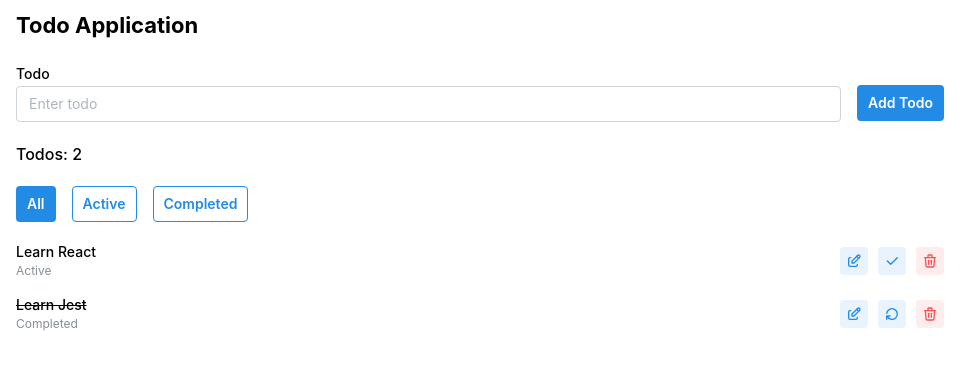
Test: Todo Application › validates todo title
Type "ab" into the field labelled "Todo" at (429, 104), box [16,86,841,122]
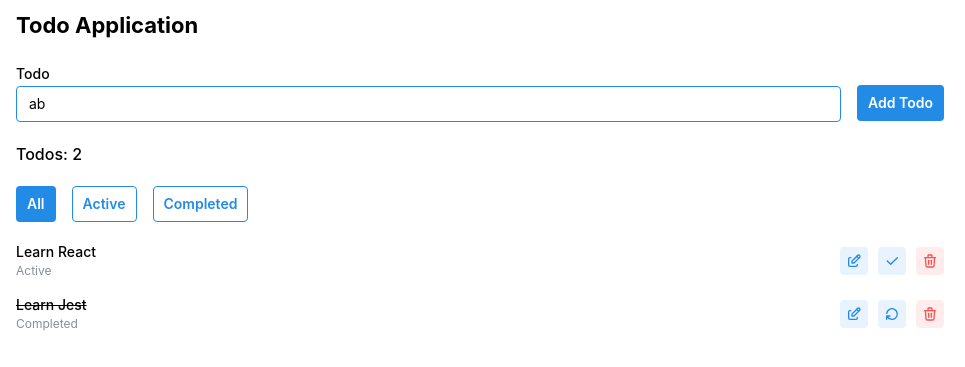
Click the button "Add Todo" at (901, 103), box [857,85,944,121]
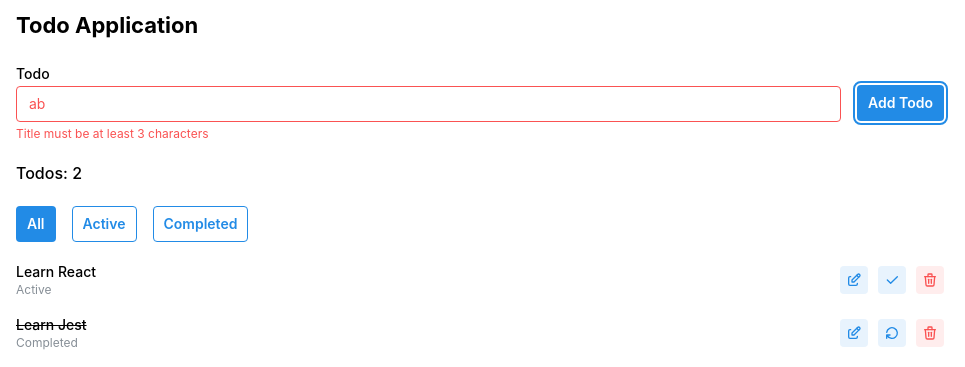
Now the text "Title must be at least 3 characters" is shown, box [16,126,208,141]
